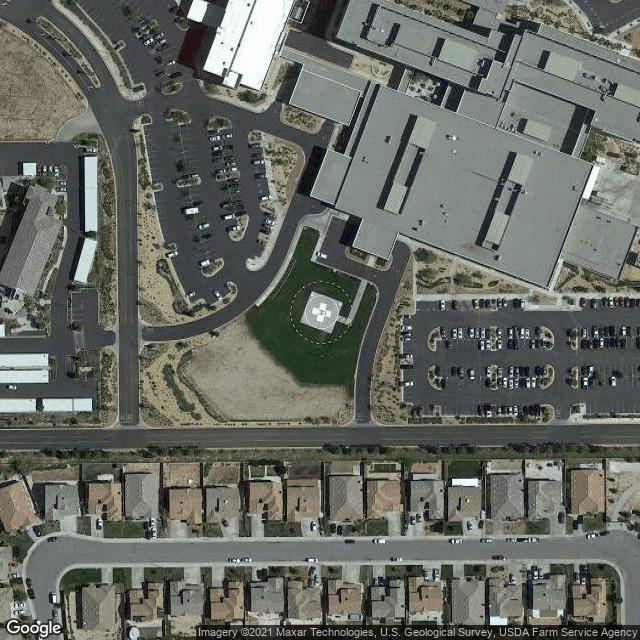Helipad: (290, 275, 358, 344)
